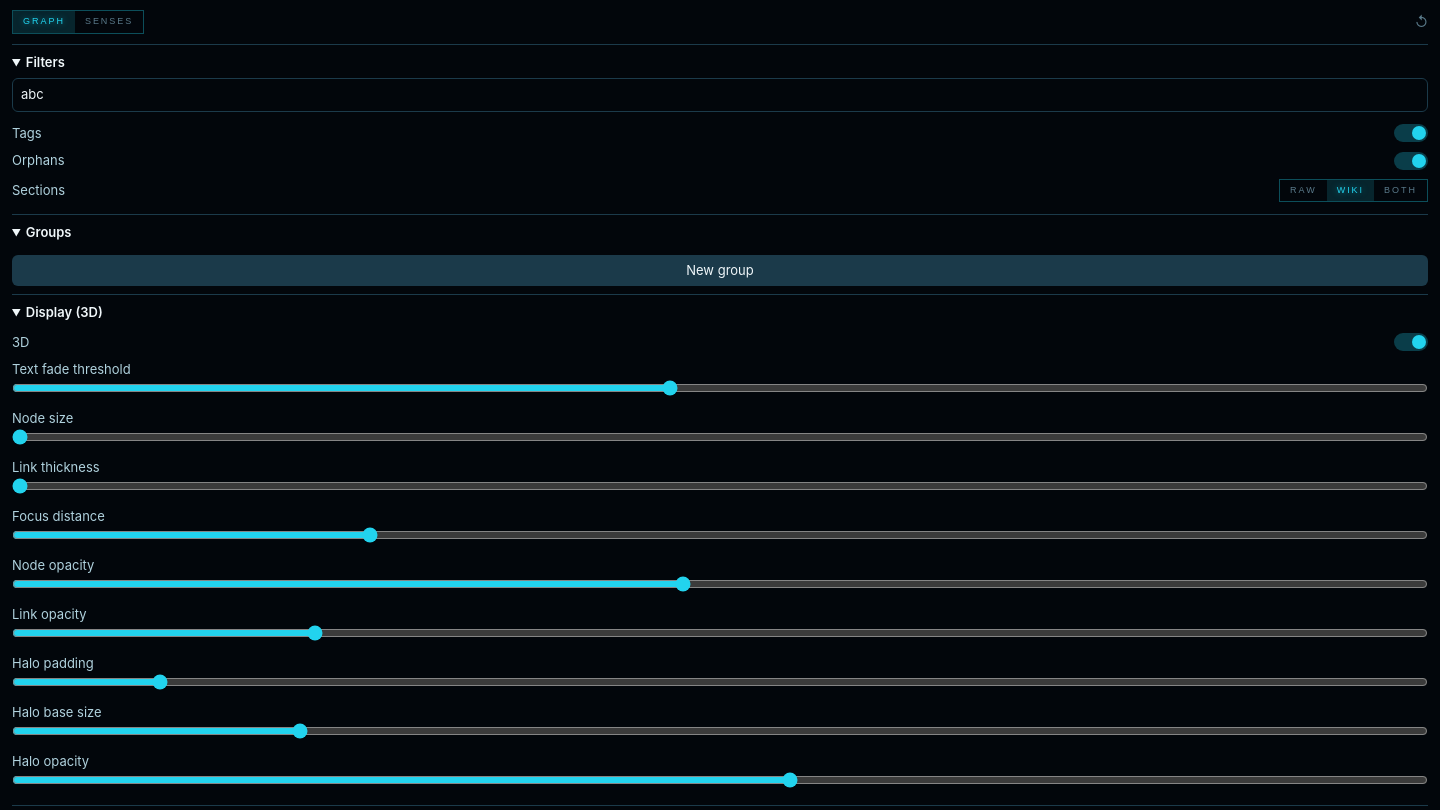
Scenario: head model › shows why an upload was refused, and keeps the current head
Click the button "Senses" at {"x": 109, "y": 22}, box top-left (75, 11), bottom-right (143, 32)
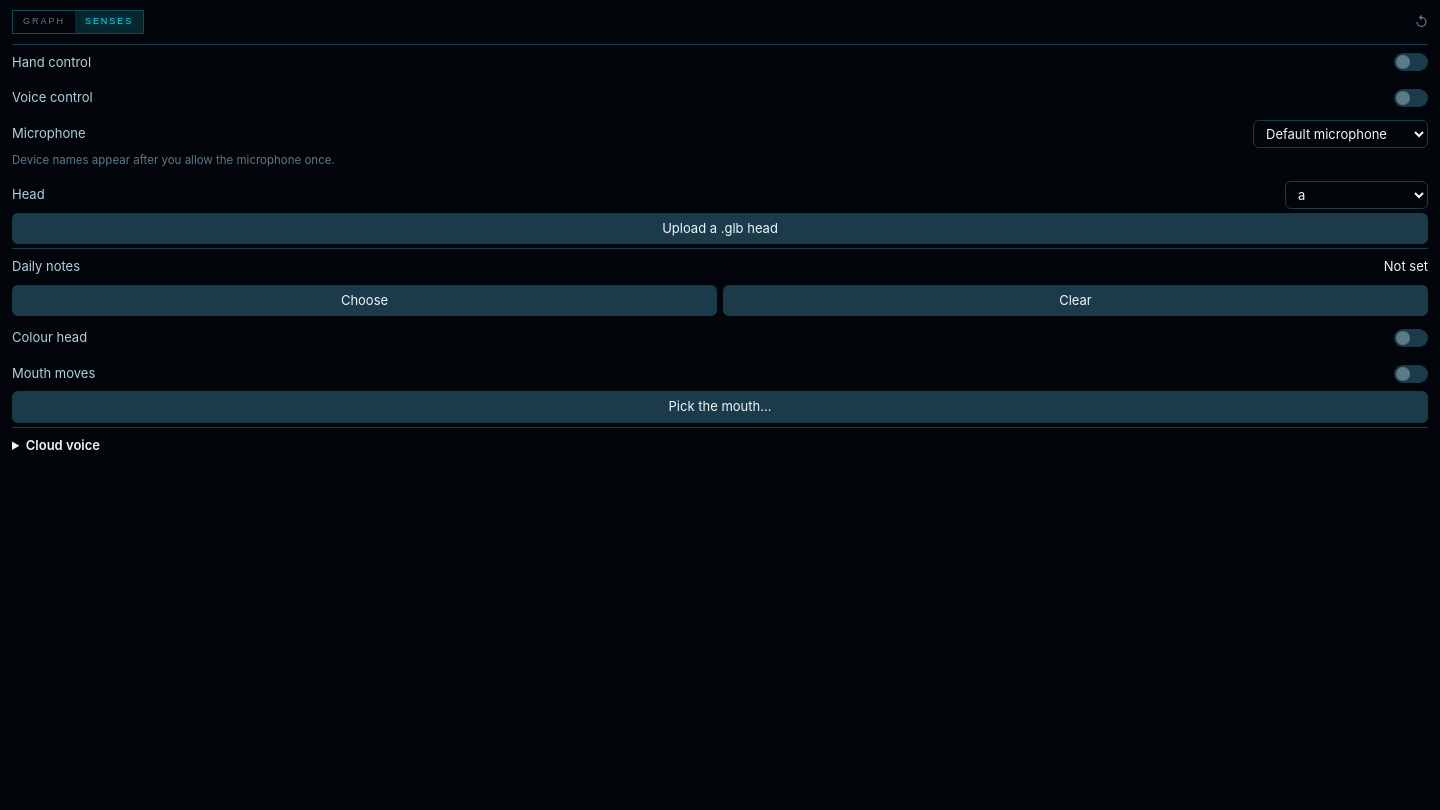
Click the button with test id "head-model-upload" at {"x": 720, "y": 229}, box top-left (12, 213), bottom-right (1428, 244)
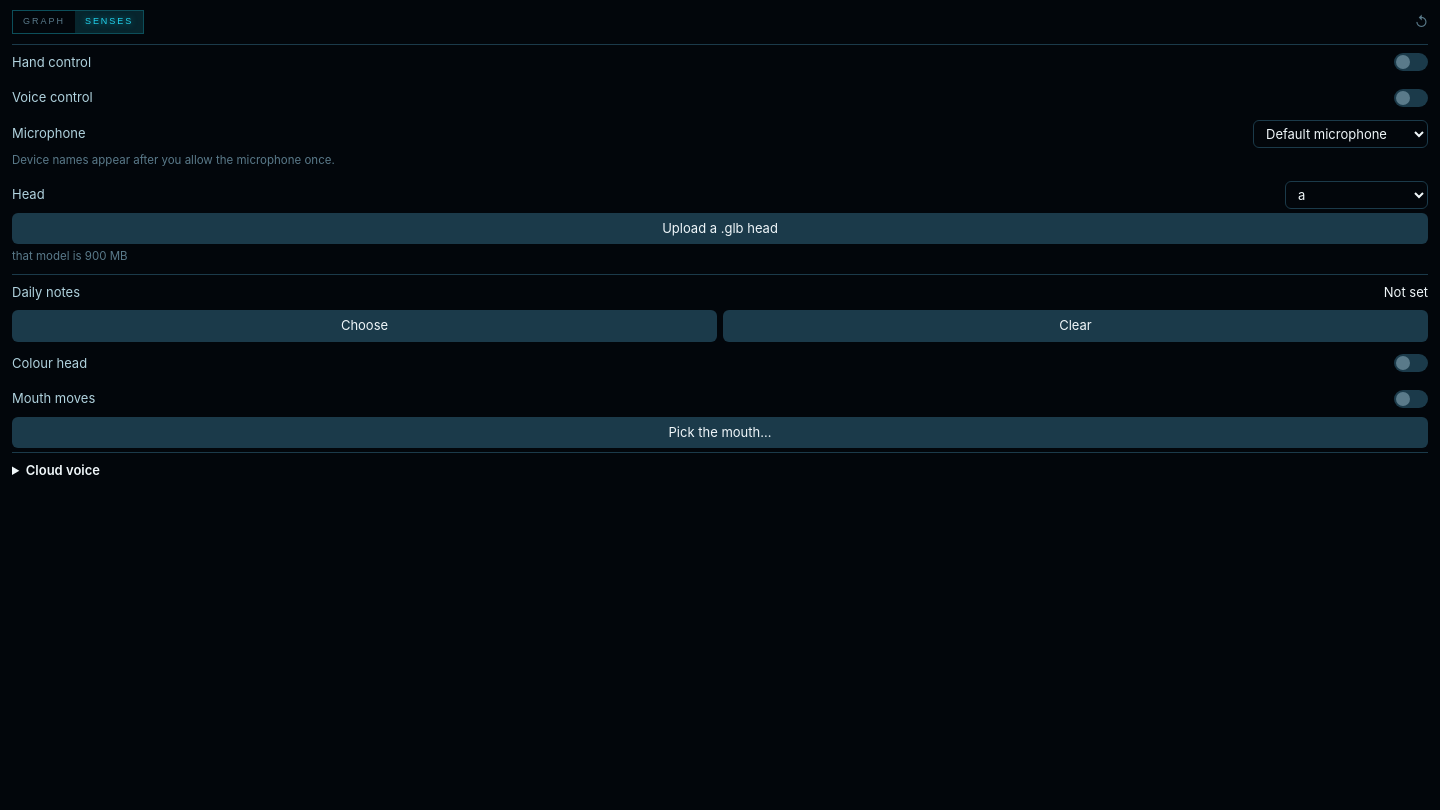
Check: the text with test id "head-model-error" shows "900 MB", box top-left (12, 249), bottom-right (128, 263)
